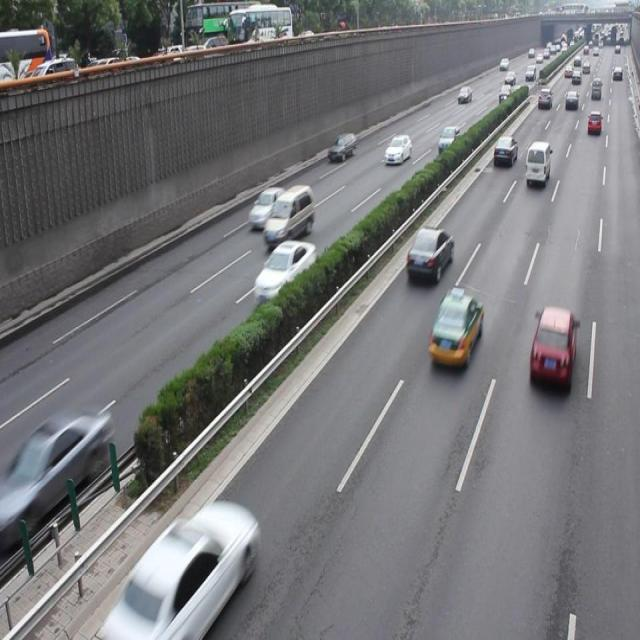car: (114, 502, 256, 640), (16, 403, 112, 534), (251, 240, 316, 306), (427, 292, 482, 368), (527, 305, 575, 387), (404, 225, 453, 283), (248, 184, 287, 230)
truck: (264, 183, 314, 245), (523, 140, 550, 184)
